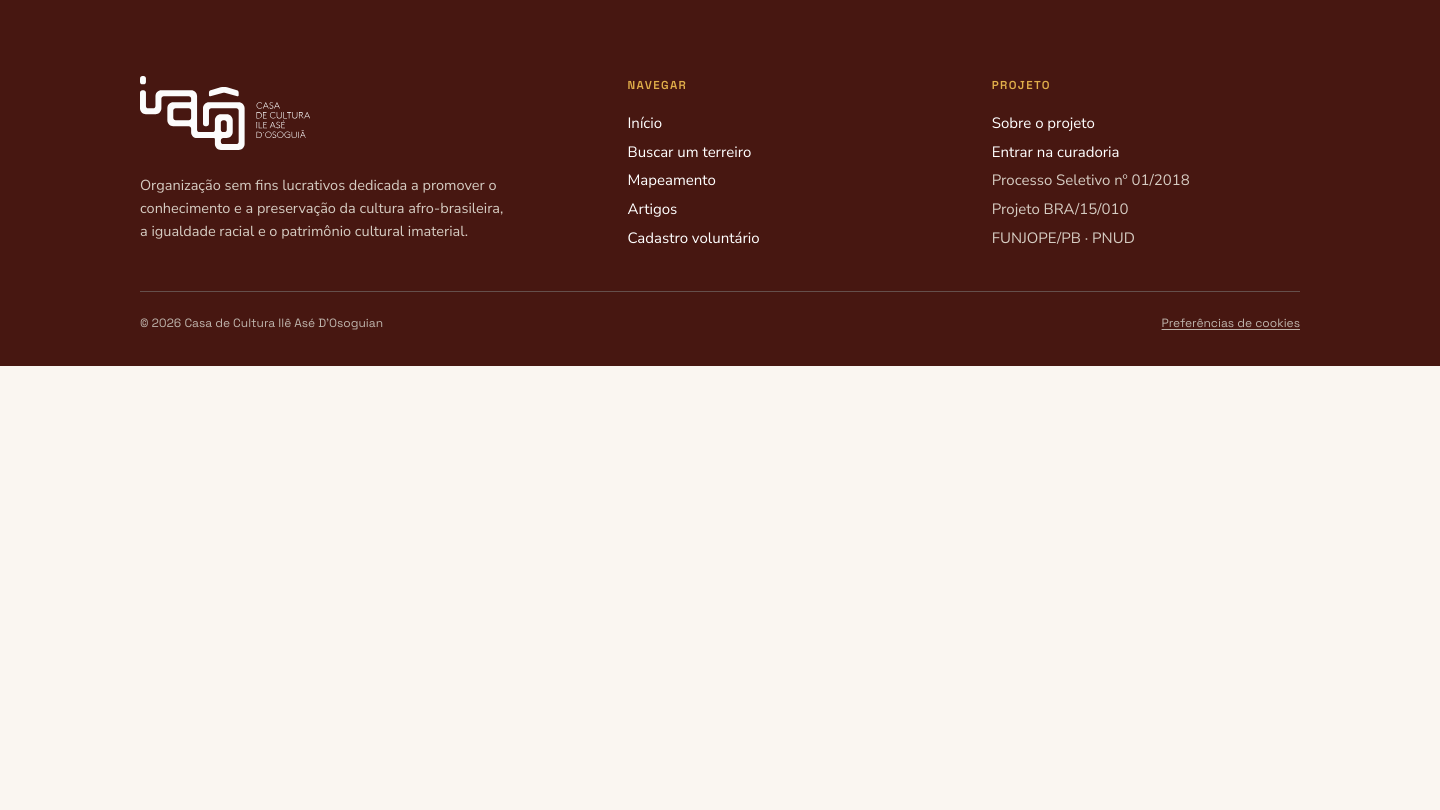
it: CookieBanner › o rodapé reabre as preferências com a escolha atual
The width and height of the screenshot is (1440, 810).
Click the button "Preferências de cookies". click: (1231, 324)
box: 1162,314 -> 1300,334
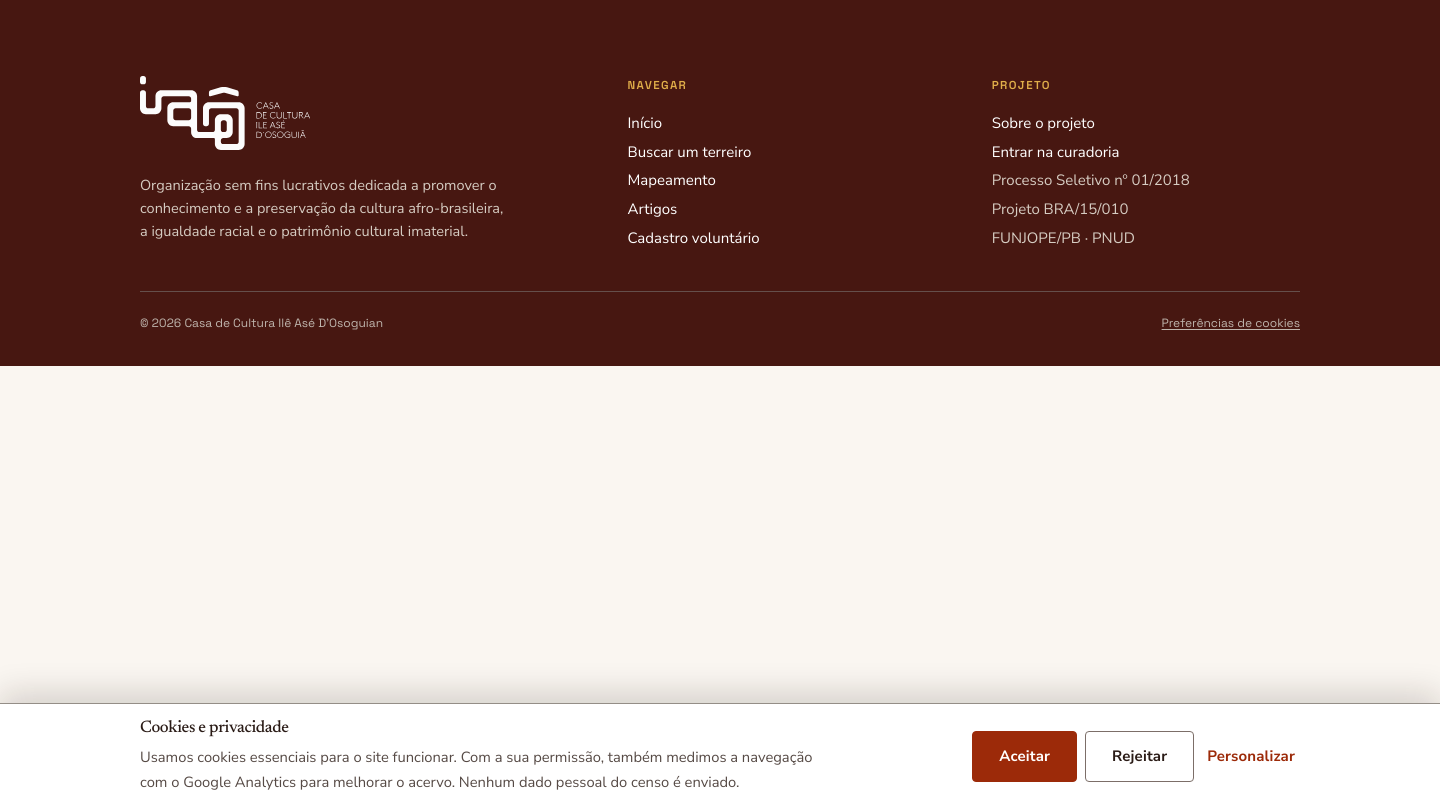
Click the button "Personalizar". click: (1251, 757)
box: 1202,731 -> 1300,782
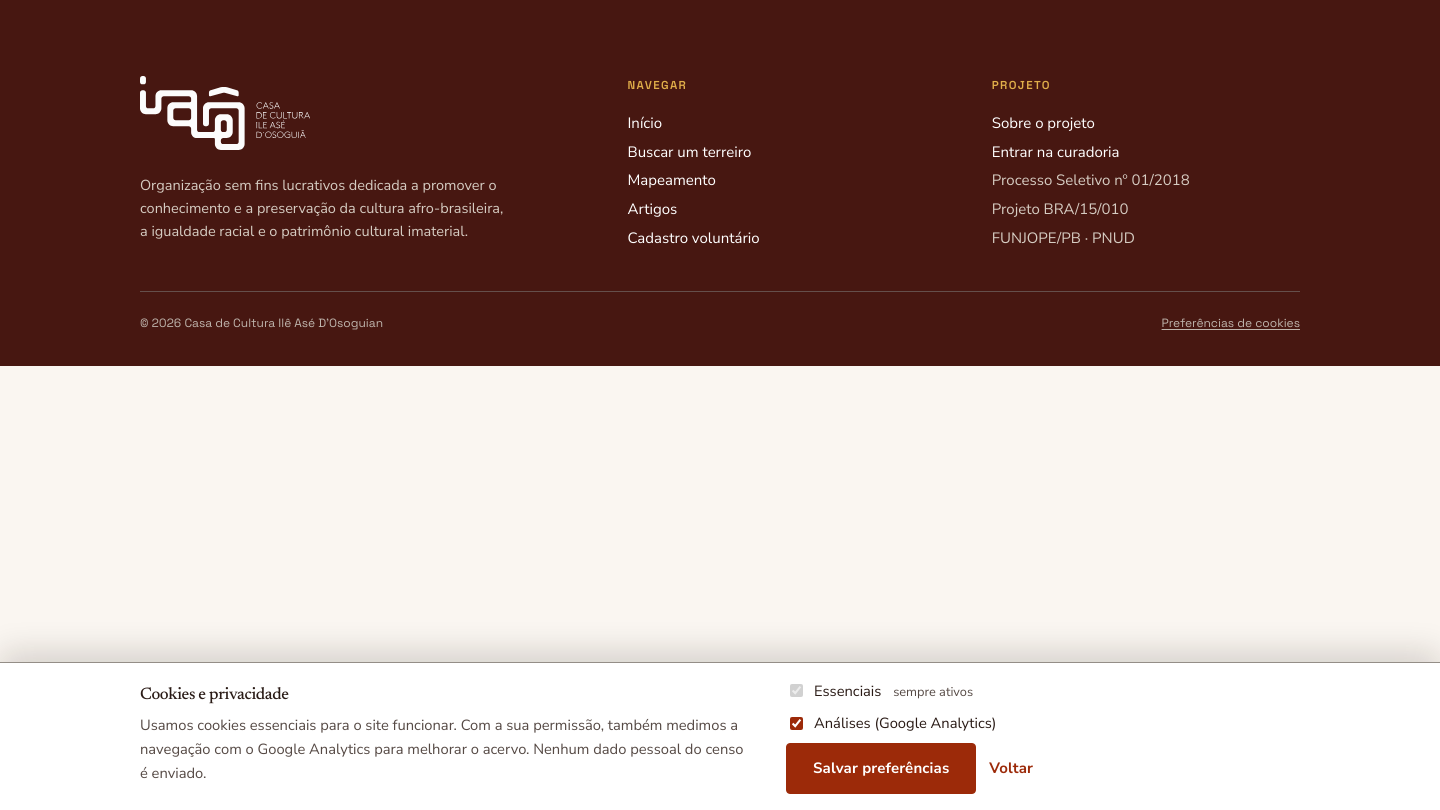
expect the checkbox labelled "Análises (Google Analytics)" is checked: met, box 790,717 -> 803,730
